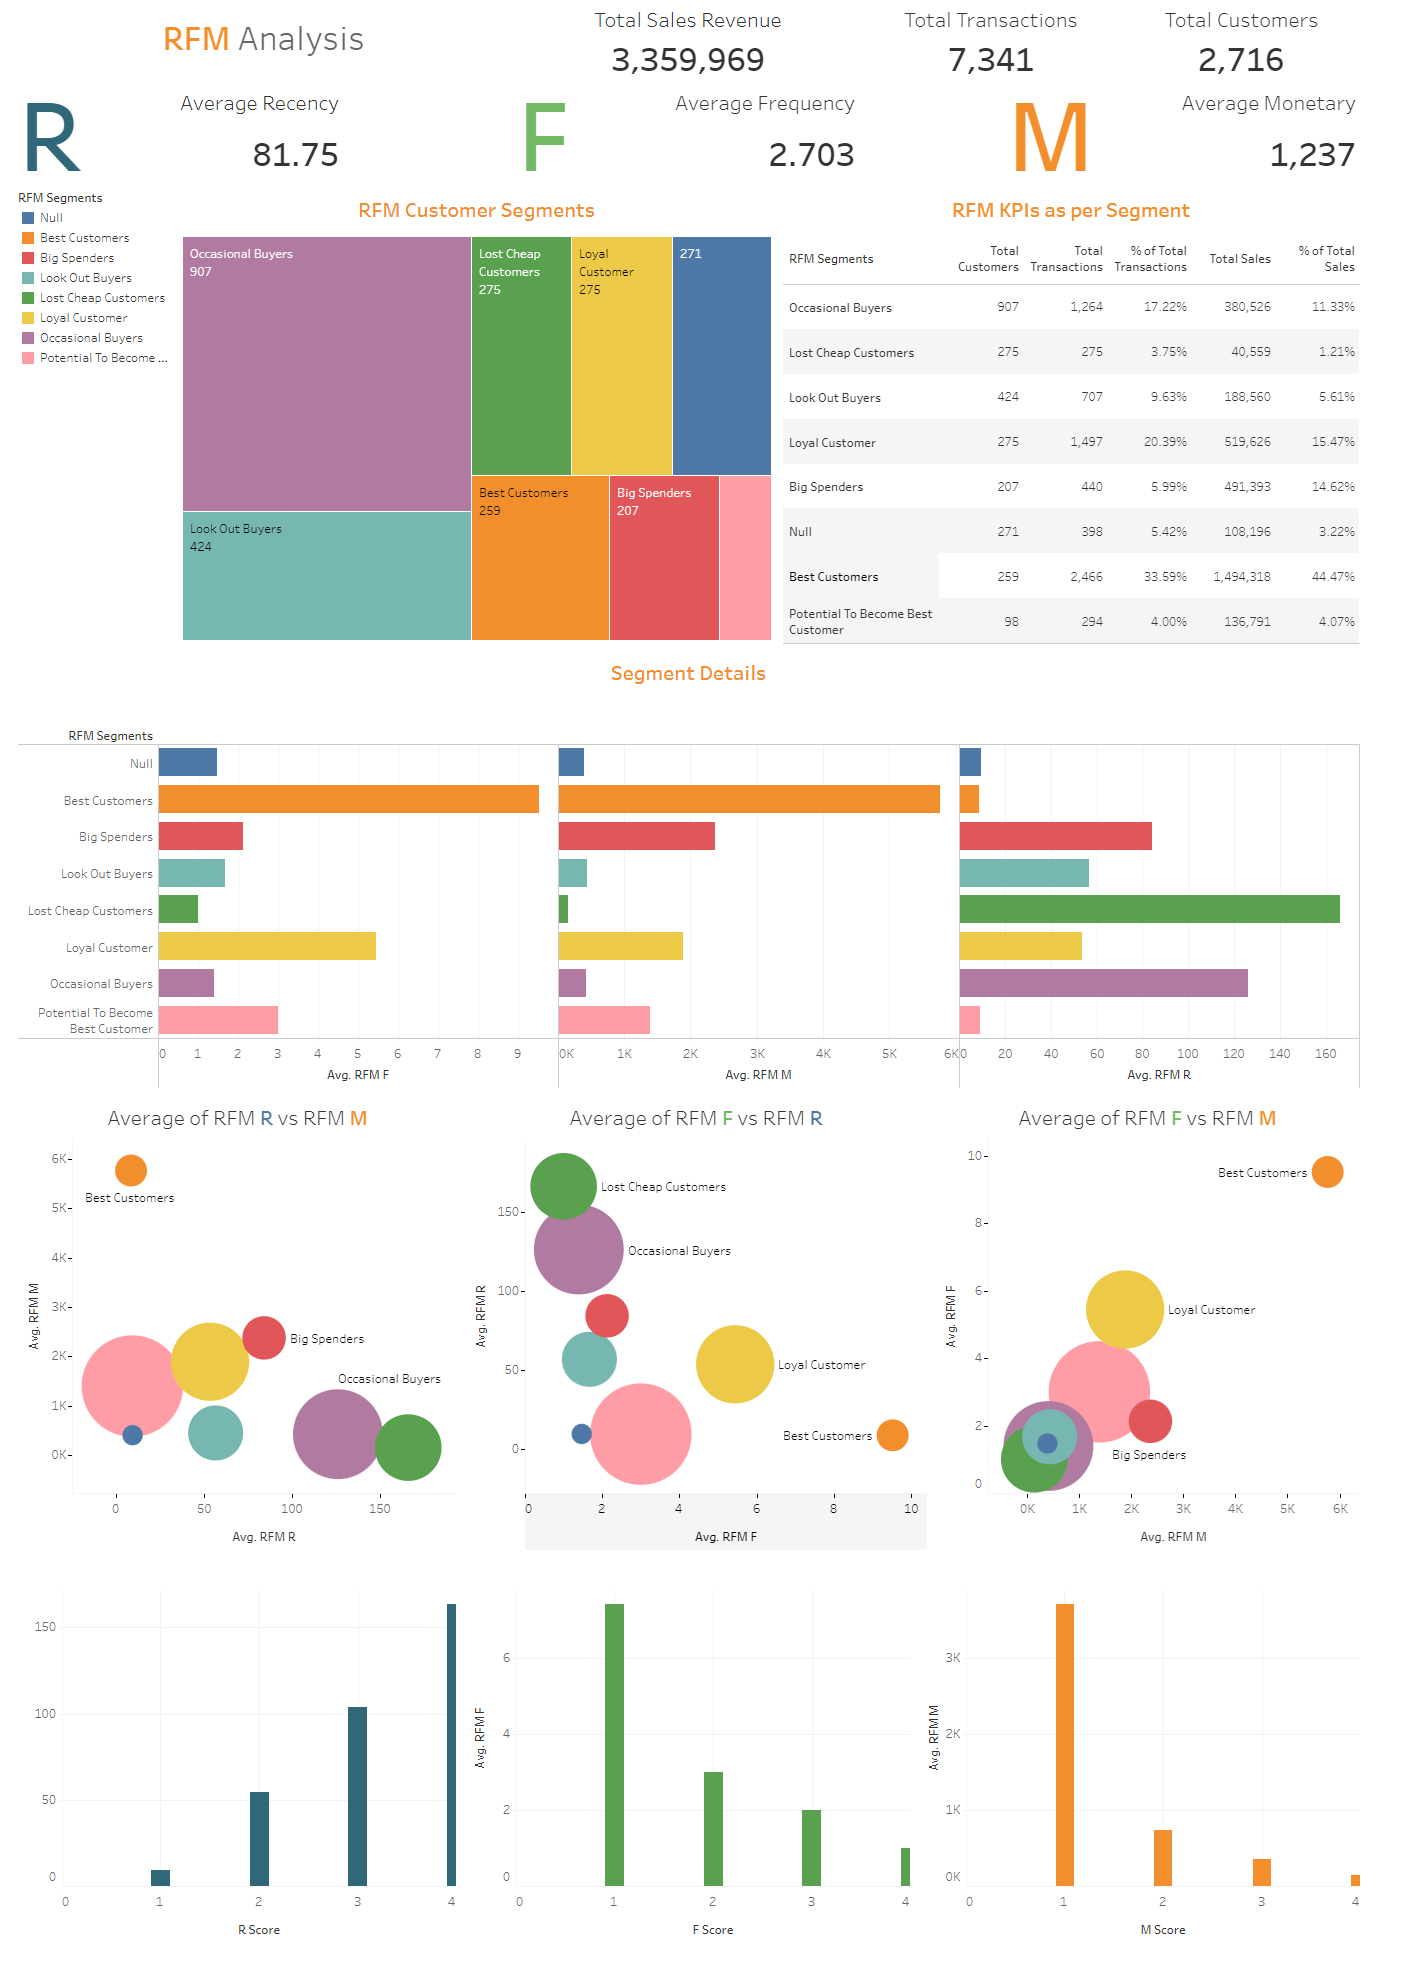

What the dashboard file says about the page in this screenshot:
{"tool":"tableau","page":{"name":"Dashboard 1","canvas":[1366,2000],"ordinal":0},"visuals":[{"type":"text","box":[8,8,499,83.3]},{"type":"worksheet","title":"Sales","mark":"Automatic","box":[507,8,350,83.3]},{"type":"worksheet","title":"Transactions","mark":"Automatic","box":[857,8,256,83.3]},{"type":"worksheet","title":"Customers","mark":"Automatic","box":[1113,8,245,83.3]},{"type":"text","box":[8,91.3,129,106.9]},{"type":"worksheet","title":"Average Recency","mark":"Automatic","box":[137,91.3,204,106.9]},{"type":"blank","box":[341,91.3,166,106.9]},{"type":"text","box":[507,91.3,104,106.9]},{"type":"worksheet","title":"Average Frequency","mark":"Automatic","box":[611,91.3,246,106.9]},{"type":"blank","box":[857,91.3,140,106.9]},{"type":"text","box":[997,91.3,138,106.9]},{"type":"worksheet","title":"Average Monetary","mark":"Automatic","box":[1135,91.3,223,106.9]},{"type":"legend","title":"RFM Customer Segments","param":"[federated.0lpcbtb0omnzdp1gid8k41ln5ni2].[none:Calculation_520447240317149192:nk","box":[8,198.2,160,463]},{"type":"worksheet","title":"RFM Customer Segments","mark":"Automatic","box":[168,198.2,605,463]},{"type":"worksheet","title":"RFM KPI Segment","mark":"Automatic","rows":["Calculation_520447240317149192"],"box":[773,198.2,585,463]},{"type":"worksheet","title":"Segment Details","mark":"Automatic","rows":["Calculation_520447240317149192"],"cols":["Calculation_520447240315461635","Calculation_520447240315244546","Calculation_520447240313901056"],"box":[8,661.2,1350,445]},{"type":"worksheet","title":"Avg RFM R vs RFM M","mark":"Circle","rows":["Calculation_520447240315244546"],"cols":["Calculation_520447240313901056"],"box":[8,1106.2,447,460.8]},{"type":"worksheet","title":"Avg RFM F vs RFM R","mark":"Circle","rows":["Calculation_520447240313901056"],"cols":["Calculation_520447240315461635"],"box":[455,1106.2,470,460.8]},{"type":"worksheet","title":"Avg RFM F vs RFM M","mark":"Circle","rows":["Calculation_520447240315461635"],"cols":["Calculation_520447240315244546"],"box":[925,1106.2,433,460.8]},{"type":"blank","box":[8,1567,1350,32]},{"type":"worksheet","title":"R Score vs Average R","mark":"Bar","rows":["Calculation_520447240313901056"],"cols":["Calculation_520447240315981828"],"box":[8,1599,446,361]},{"type":"worksheet","title":"F Score vs Average F","mark":"Bar","rows":["Calculation_520447240315461635"],"cols":["Calculation_520447240316682246"],"box":[454,1599,454,361]},{"type":"worksheet","title":"M Score vs Average M","mark":"Bar","rows":["Calculation_520447240315244546"],"cols":["Calculation_520447240316338181"],"box":[908,1599,450,361]}]}

Visuals, with their boxes on the page's 1366x2000 design canvas (x1, y1, x2, y2). These are canvas units, not pixel positions in the 1411x1963 screenshot, which may show the page scaled, cropped or inside an application window:
text: x1=8, y1=8, x2=507, y2=91
"Sales" worksheet: x1=507, y1=8, x2=857, y2=91
"Transactions" worksheet: x1=857, y1=8, x2=1113, y2=91
"Customers" worksheet: x1=1113, y1=8, x2=1358, y2=91
text: x1=8, y1=91, x2=137, y2=198
"Average Recency" worksheet: x1=137, y1=91, x2=341, y2=198
blank: x1=341, y1=91, x2=507, y2=198
text: x1=507, y1=91, x2=611, y2=198
"Average Frequency" worksheet: x1=611, y1=91, x2=857, y2=198
blank: x1=857, y1=91, x2=997, y2=198
text: x1=997, y1=91, x2=1135, y2=198
"Average Monetary" worksheet: x1=1135, y1=91, x2=1358, y2=198
"RFM Customer Segments" legend: x1=8, y1=198, x2=168, y2=661
"RFM Customer Segments" worksheet: x1=168, y1=198, x2=773, y2=661
"RFM KPI Segment" worksheet: x1=773, y1=198, x2=1358, y2=661
"Segment Details" worksheet: x1=8, y1=661, x2=1358, y2=1106
"Avg RFM R vs RFM M" worksheet (Circle marks): x1=8, y1=1106, x2=455, y2=1567
"Avg RFM F vs RFM R" worksheet (Circle marks): x1=455, y1=1106, x2=925, y2=1567
"Avg RFM F vs RFM M" worksheet (Circle marks): x1=925, y1=1106, x2=1358, y2=1567
blank: x1=8, y1=1567, x2=1358, y2=1599
"R Score vs Average R" worksheet (Bar marks): x1=8, y1=1599, x2=454, y2=1960
"F Score vs Average F" worksheet (Bar marks): x1=454, y1=1599, x2=908, y2=1960
"M Score vs Average M" worksheet (Bar marks): x1=908, y1=1599, x2=1358, y2=1960
